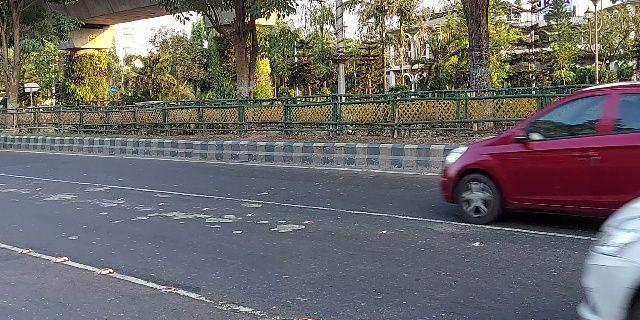Car: (435, 77, 640, 232)
